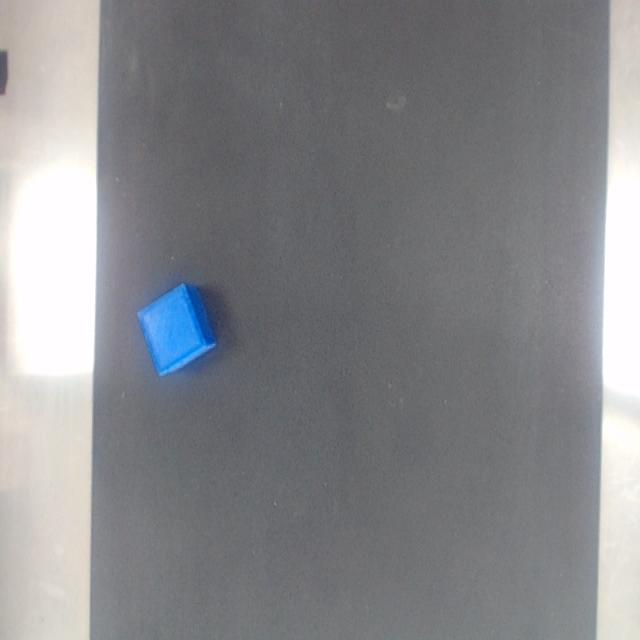Azul: (138, 283, 216, 375)
